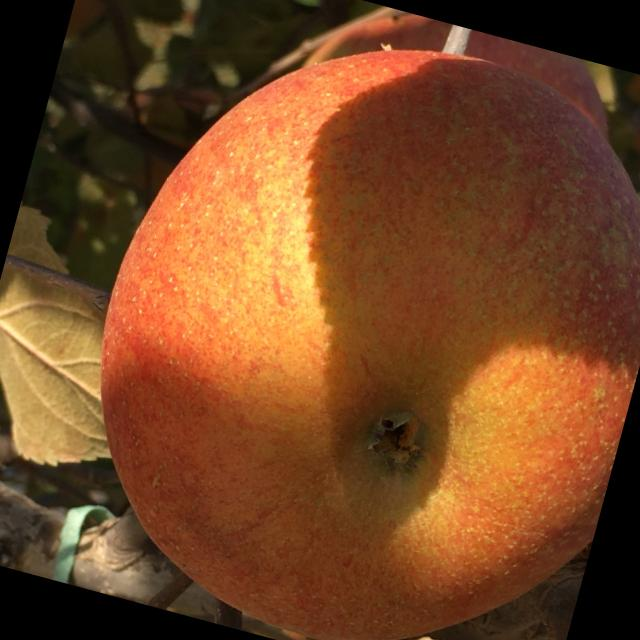fresh: (24, 1, 640, 640)
